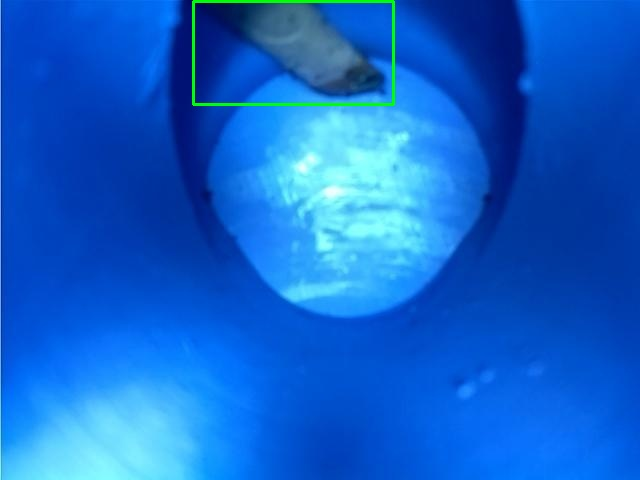megot: (193, 1, 393, 104)
